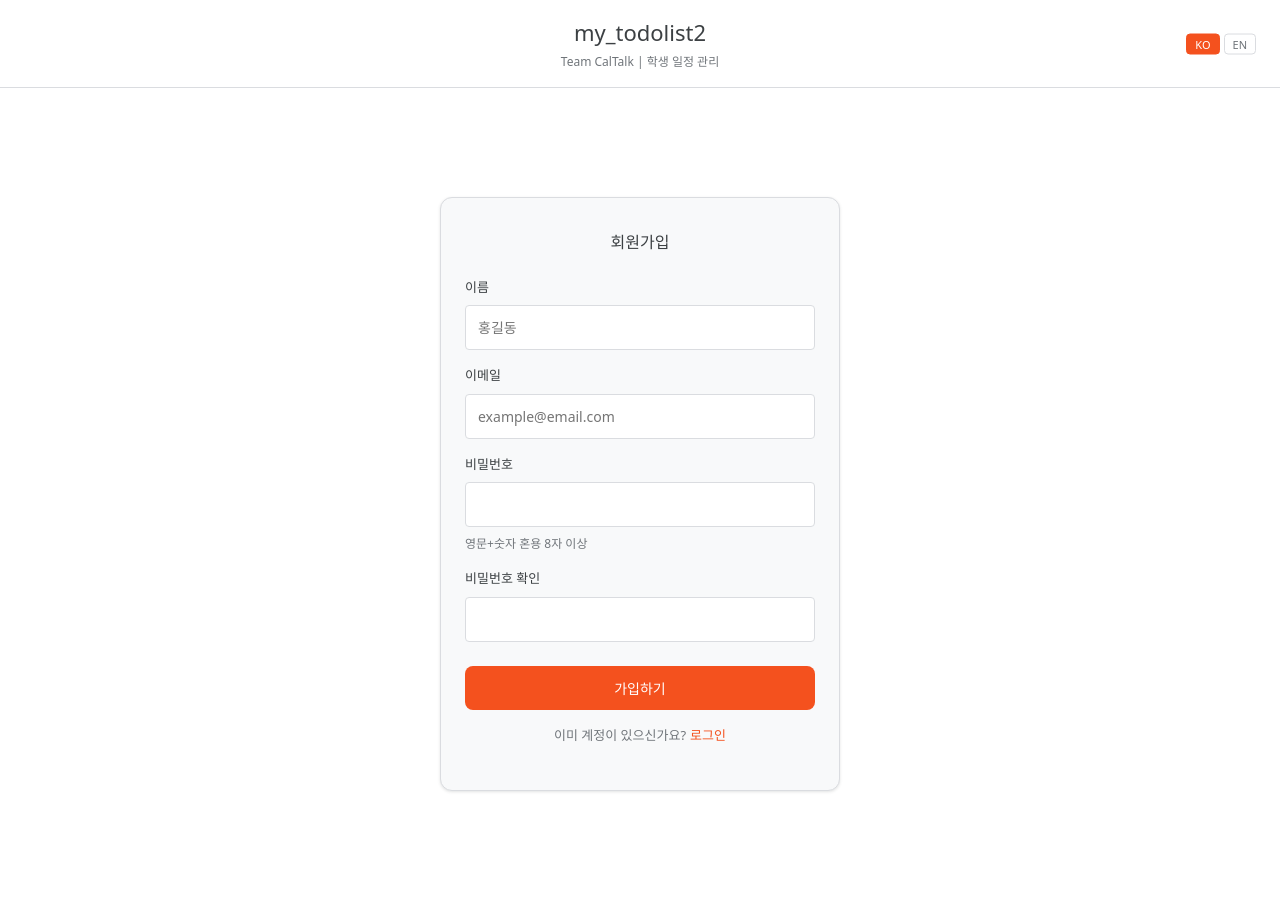
Scenario: SignupPage › 이메일 형식이 잘못되면 인라인 에러가 표시된다
The width and height of the screenshot is (1280, 900).
Type "invalid" into the field labelled "이메일" at (640, 416), box [465,394,815,439]
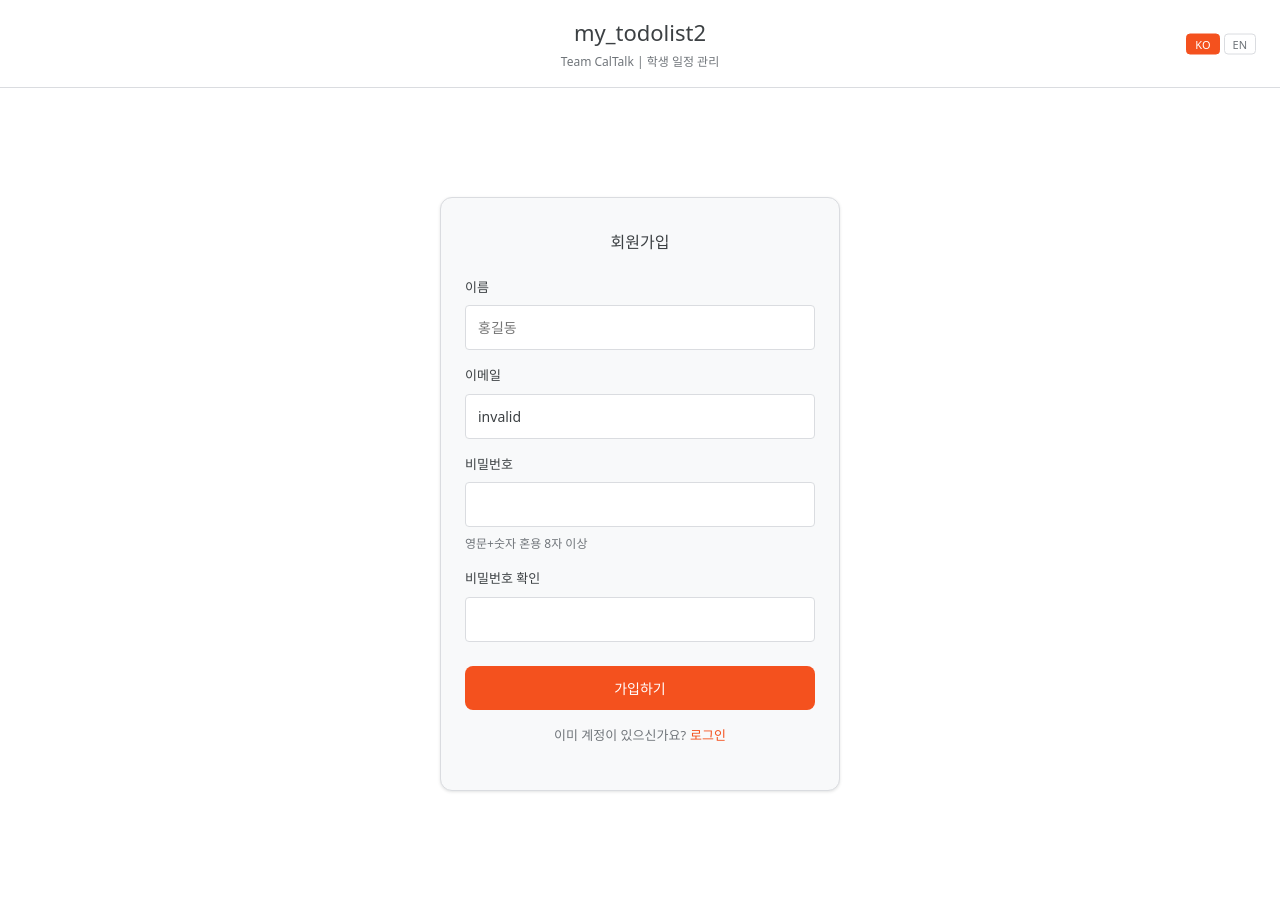
Leave the field labelled "이메일", box [465,394,815,439]
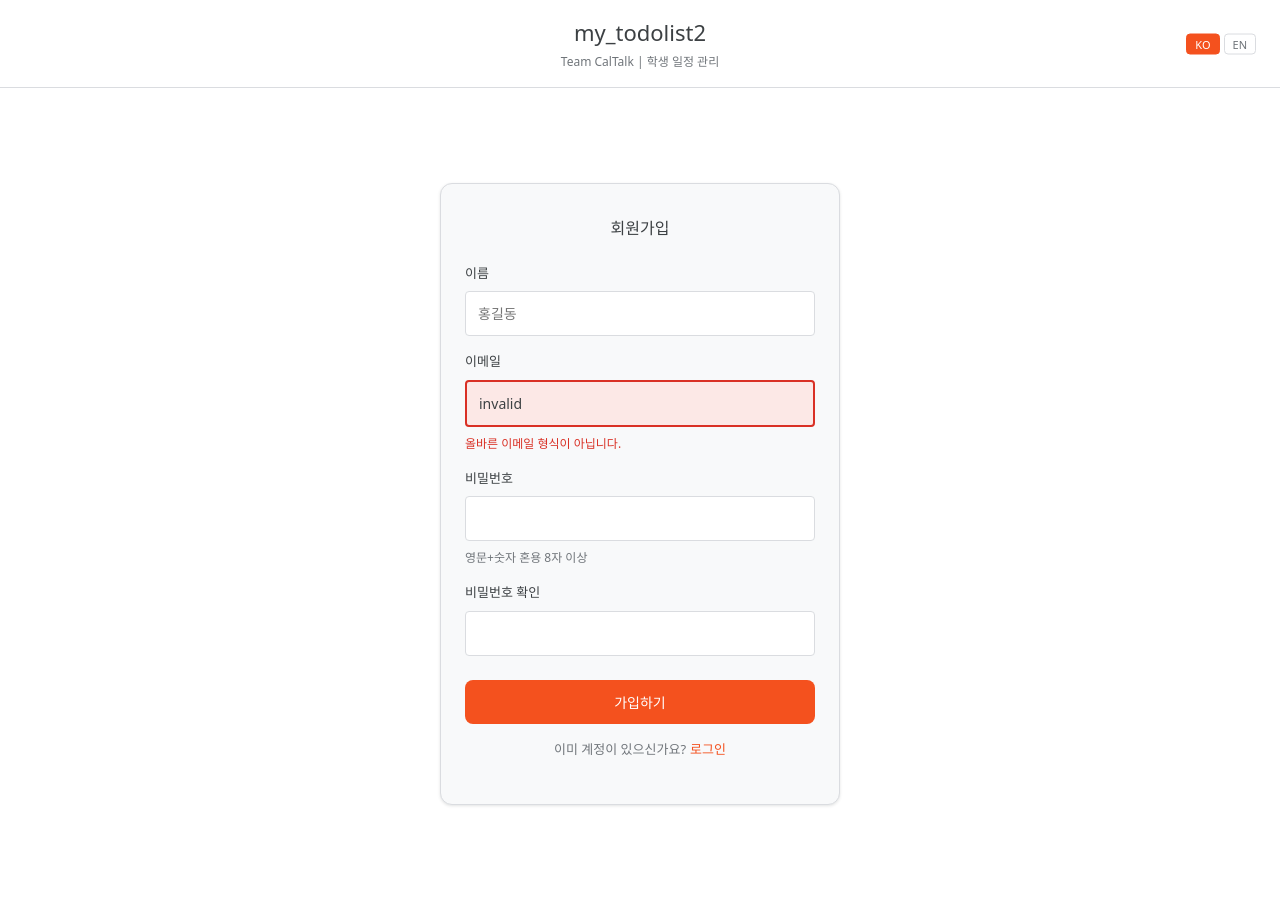
Expected: the text "올바른 이메일 형식이 아닙니다." is shown, [465,435,621,452]
